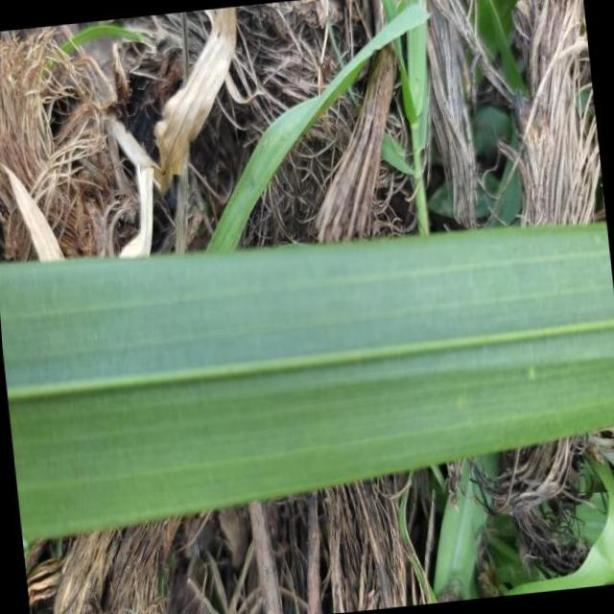Healthy: (0, 224, 614, 539)
